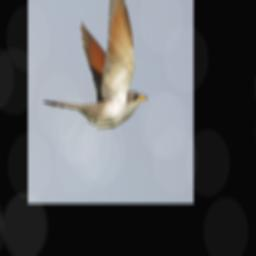Cuckoo: (43, 0, 148, 127)
